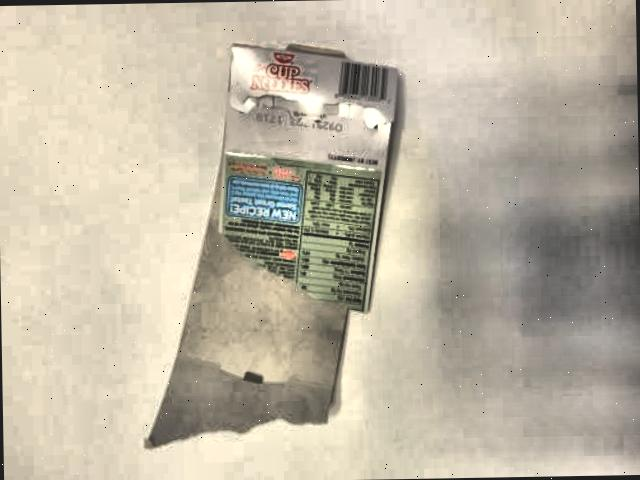Paper: (114, 25, 410, 454)
